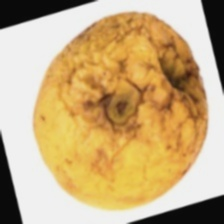apple: (32, 35, 209, 207)
